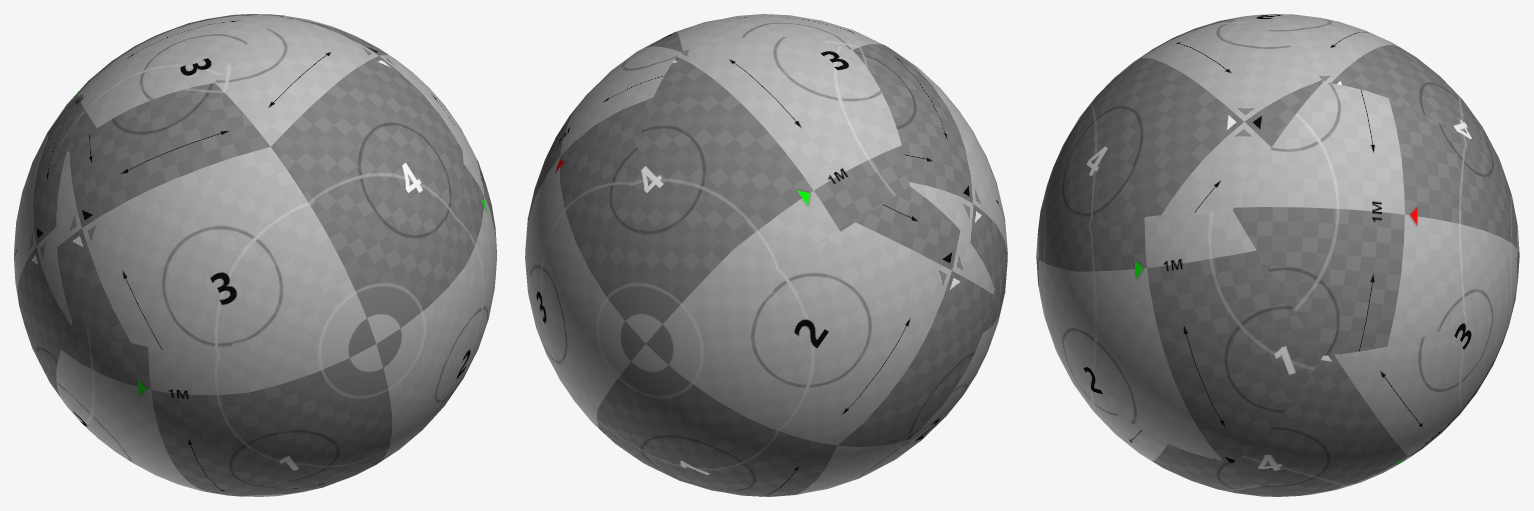
Rendered from PlatonicSphere.fbx.
3 views of the same model, side by side, from view 1: azimuth 30°, elevation 25°; view 2: azimuth 150°, elevation 25°; view 3: azimuth 270°, elevation 25° (orthographic).
Visible parts, largest first — view 1: PlatonicSphere_UV_world_1m; view 2: PlatonicSphere_UV_world_1m; view 3: PlatonicSphere_UV_world_1m.
Boxes of the visible parts, x1,y1,x2,y2 form: PlatonicSphere_UV_world_1m: (14,14,496,496); PlatonicSphere_UV_world_1m: (525,14,1007,496); PlatonicSphere_UV_world_1m: (1036,14,1519,496).
Bounding box in the file's own units: 0.9976 × 1 × 1.
Materials: 1 (1 with a texture image).
